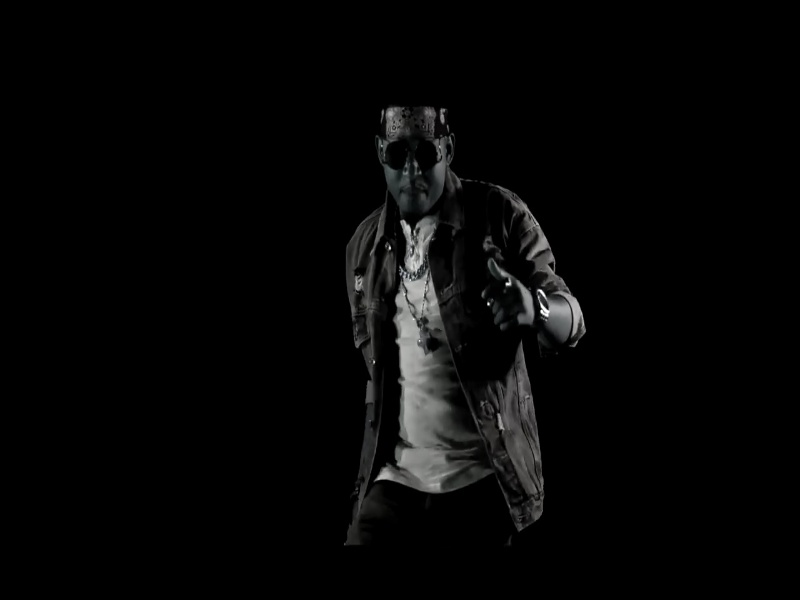TsisyArotava: (369, 96, 458, 233)
